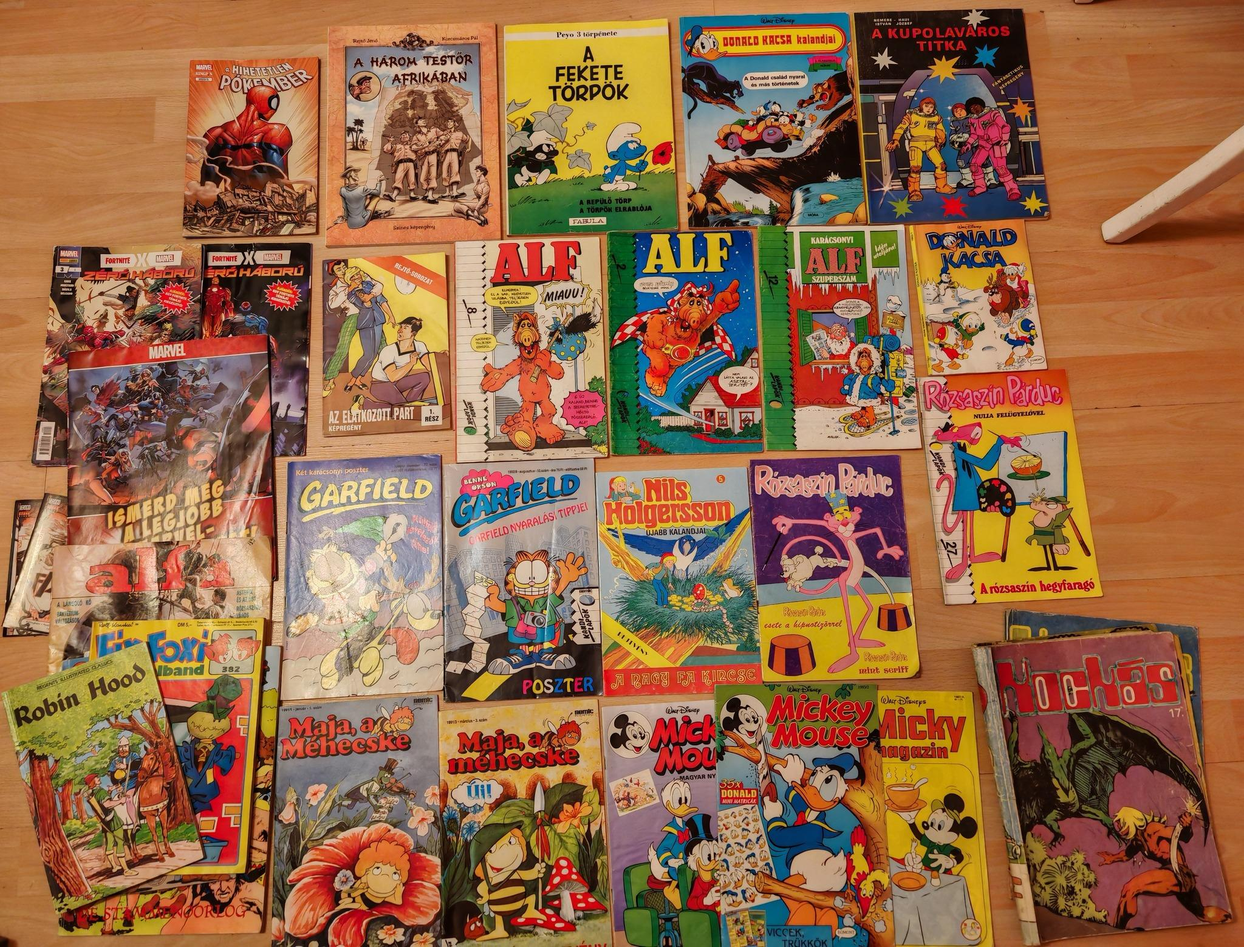comic: (971, 611, 1232, 947), (0, 644, 211, 914), (715, 682, 894, 947), (916, 359, 1102, 614), (59, 336, 277, 547), (852, 0, 1049, 230), (89, 618, 265, 875), (32, 228, 209, 481), (270, 697, 446, 947), (439, 699, 612, 947), (677, 9, 866, 230), (435, 459, 604, 702), (319, 24, 502, 246), (594, 464, 762, 699), (281, 456, 443, 699), (499, 18, 680, 235), (750, 454, 919, 682), (757, 220, 920, 454), (606, 228, 762, 455), (453, 236, 607, 462), (42, 536, 278, 673), (600, 696, 728, 947), (876, 685, 994, 947), (315, 253, 453, 436), (183, 58, 320, 236), (203, 242, 312, 456), (909, 212, 1046, 380), (2, 489, 71, 641)
